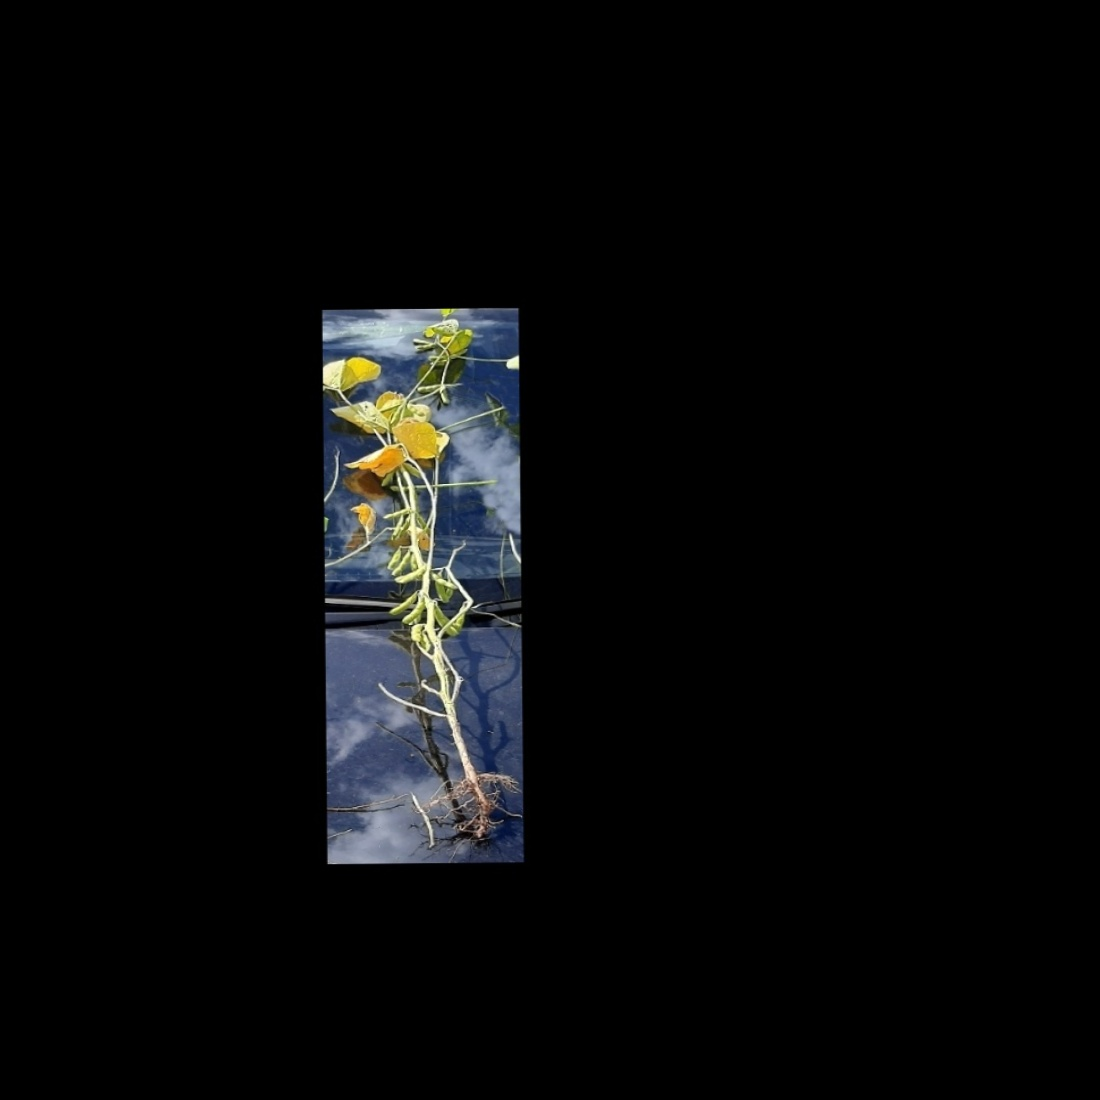pod: (397, 594, 428, 629), (432, 604, 461, 641), (387, 548, 416, 580), (385, 593, 421, 618), (428, 568, 460, 593), (387, 565, 428, 584), (397, 597, 425, 625), (432, 575, 452, 609), (379, 504, 412, 520)
soy: (338, 308, 513, 842)
